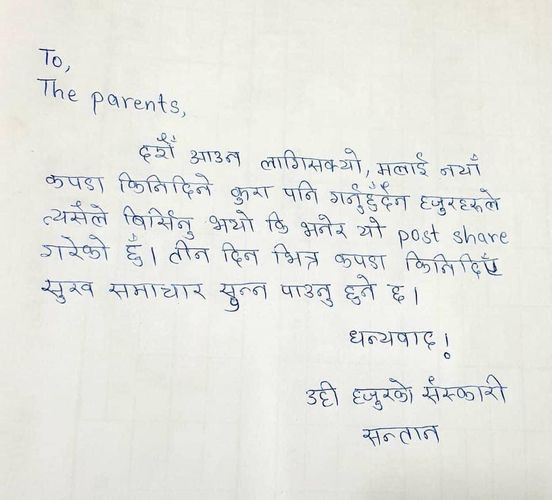text: (116, 166, 216, 200), (119, 201, 199, 241), (257, 146, 361, 175), (421, 374, 509, 408), (326, 180, 411, 215), (88, 88, 180, 120), (403, 251, 506, 279), (108, 278, 207, 304), (417, 186, 502, 216), (39, 231, 113, 263), (357, 421, 443, 447), (37, 200, 111, 230), (347, 327, 437, 351), (352, 378, 416, 411), (278, 281, 337, 311), (41, 170, 108, 196), (373, 149, 433, 178), (297, 213, 351, 245), (206, 205, 257, 238), (216, 280, 270, 311), (39, 277, 96, 306), (30, 76, 81, 104), (136, 131, 179, 164), (270, 241, 320, 269), (452, 223, 509, 247), (341, 272, 378, 307), (396, 223, 442, 251), (165, 239, 213, 265), (439, 154, 486, 180), (186, 146, 243, 167), (332, 251, 388, 272), (229, 181, 275, 206), (219, 242, 263, 267), (279, 178, 320, 204), (302, 380, 340, 408), (355, 216, 387, 243), (122, 236, 146, 270), (37, 42, 64, 70), (264, 208, 291, 236), (386, 283, 411, 306)
